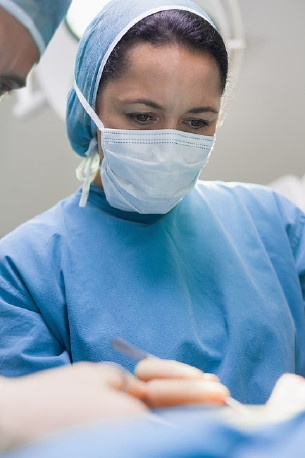Mask: (89, 85, 218, 215)
